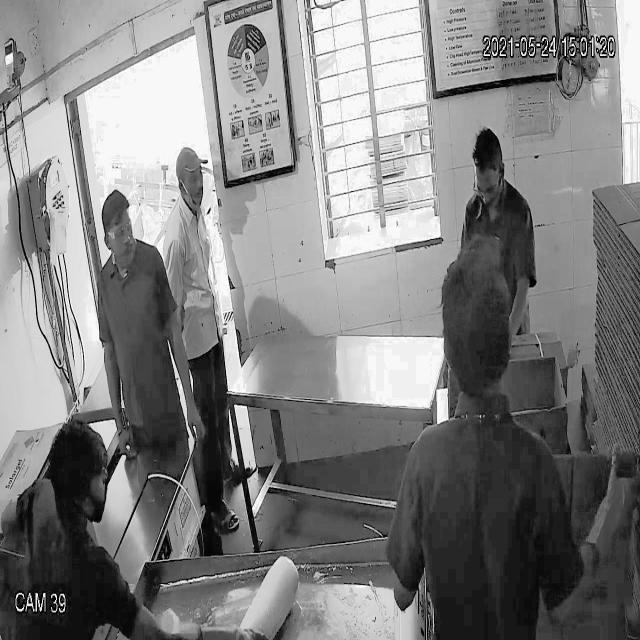glasses: (98, 219, 138, 246)
no-glass: (176, 168, 205, 192)
